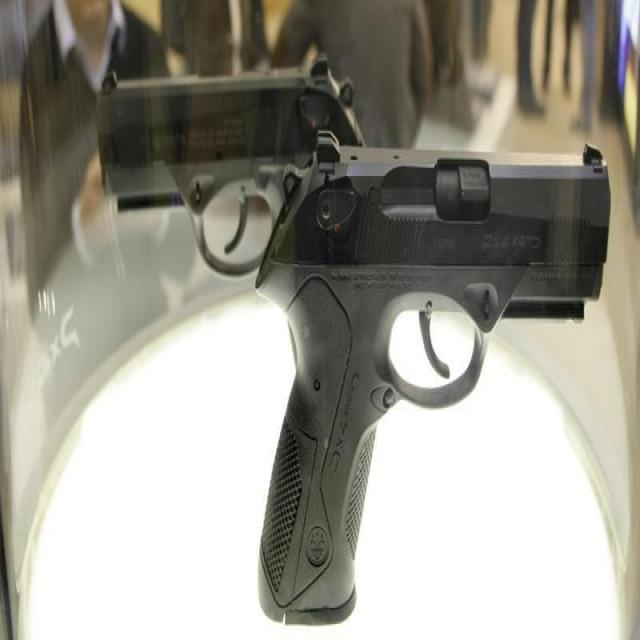gun: (250, 132, 611, 630)
